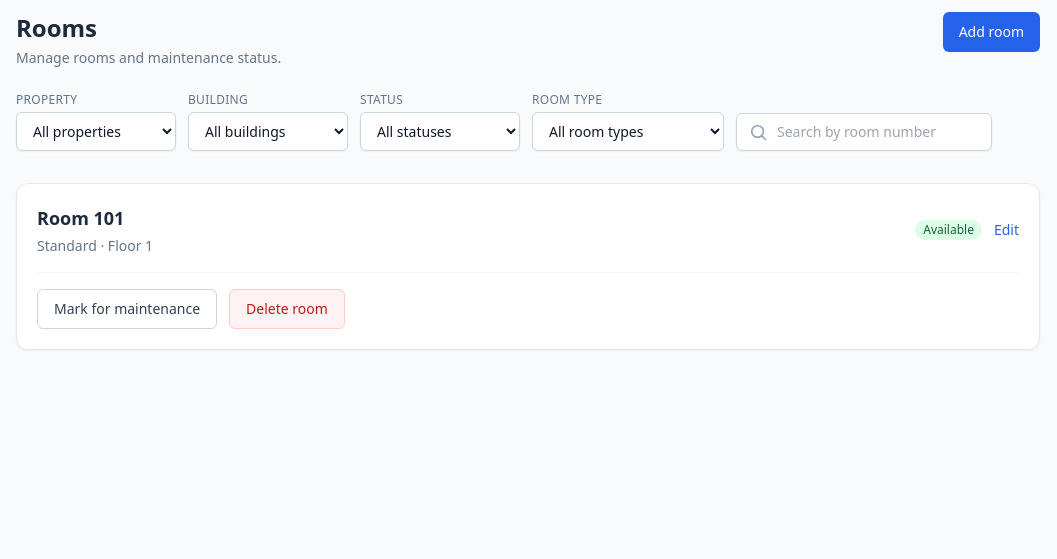
Staff rooms list page › surfaces the server message on a 409 confirmation and keeps the room list
Click the button "Mark for maintenance": (127, 309) [37, 289, 217, 329]
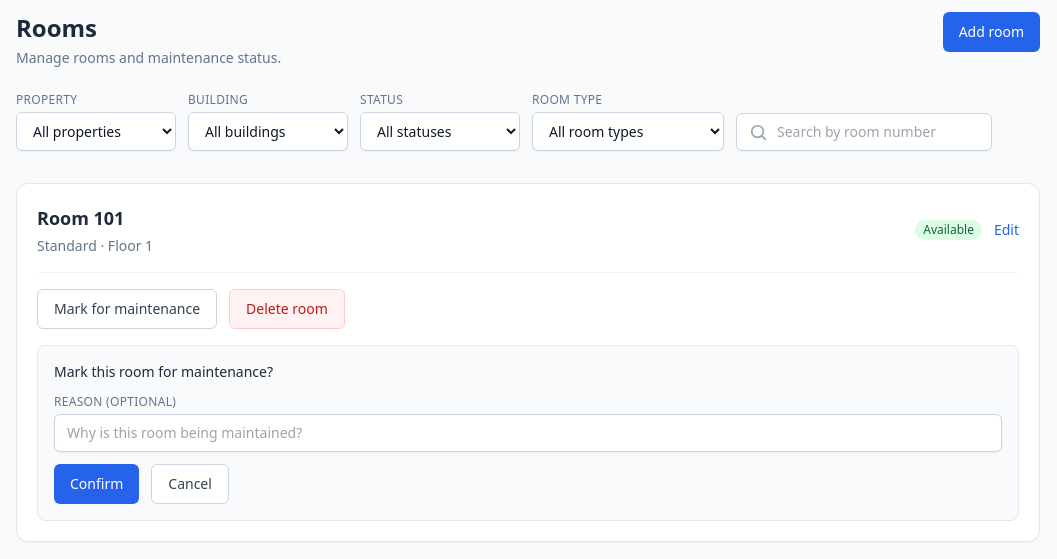
Click the button "Confirm": (97, 484) [54, 464, 139, 504]
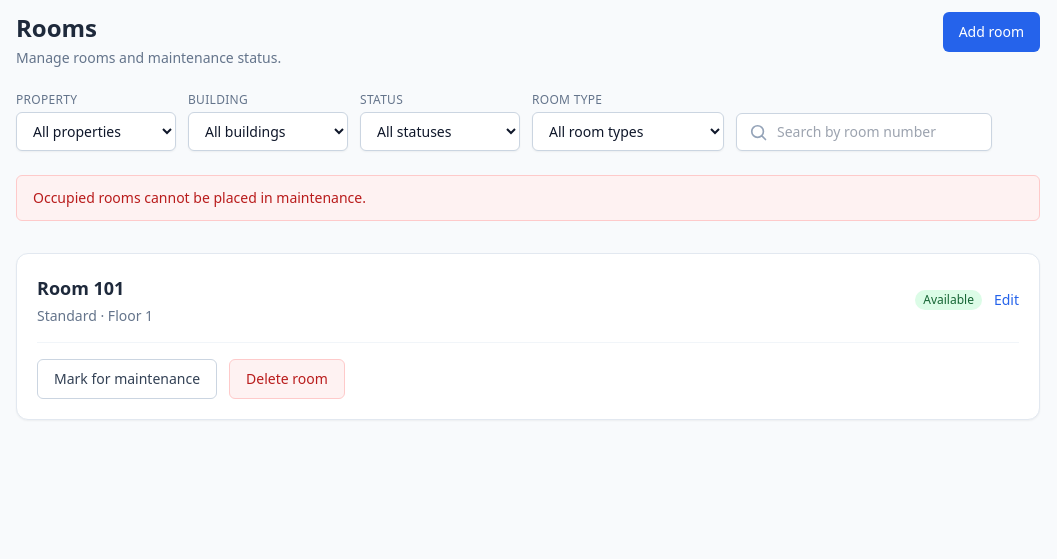
Expected: the button "Mark for maintenance" is shown, [37, 359, 217, 399]
Now the text "Occupied rooms cannot be placed in maintenance." is shown, box [16, 175, 1040, 221]
